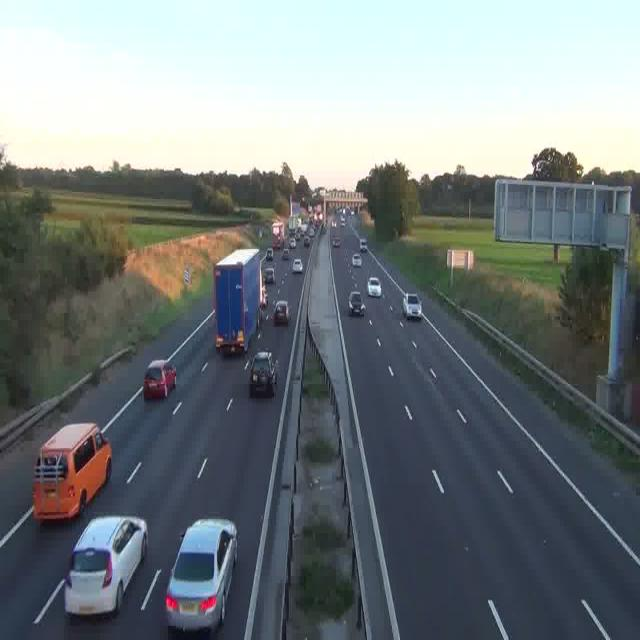car: (165, 518, 237, 633), (64, 517, 146, 616), (144, 360, 177, 399), (249, 352, 277, 396), (402, 292, 422, 320), (348, 290, 364, 316), (273, 300, 289, 324), (367, 277, 381, 298), (264, 263, 274, 282), (292, 258, 302, 274), (352, 254, 361, 268), (282, 247, 290, 261), (360, 240, 368, 252), (302, 235, 310, 246), (332, 237, 340, 247)
truck: (215, 247, 264, 354), (271, 220, 284, 246)
